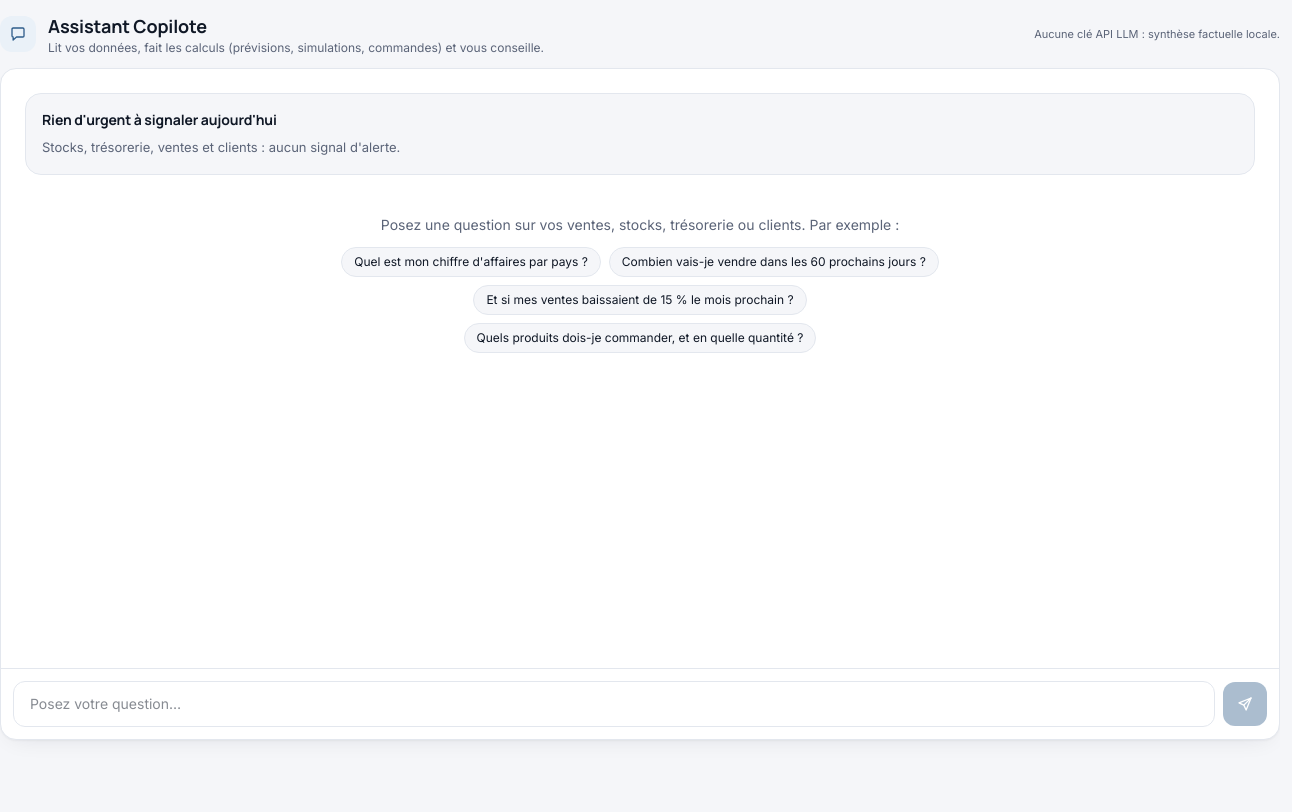
Scenario: envoie une question et affiche la réponse du copilote
Step 1. Type "Quel est mon chiffre d'affaires ?" into the field with placeholder "Posez votre question…" → {"x": 614, "y": 704}, box x1=13 y1=681 x2=1215 y2=727
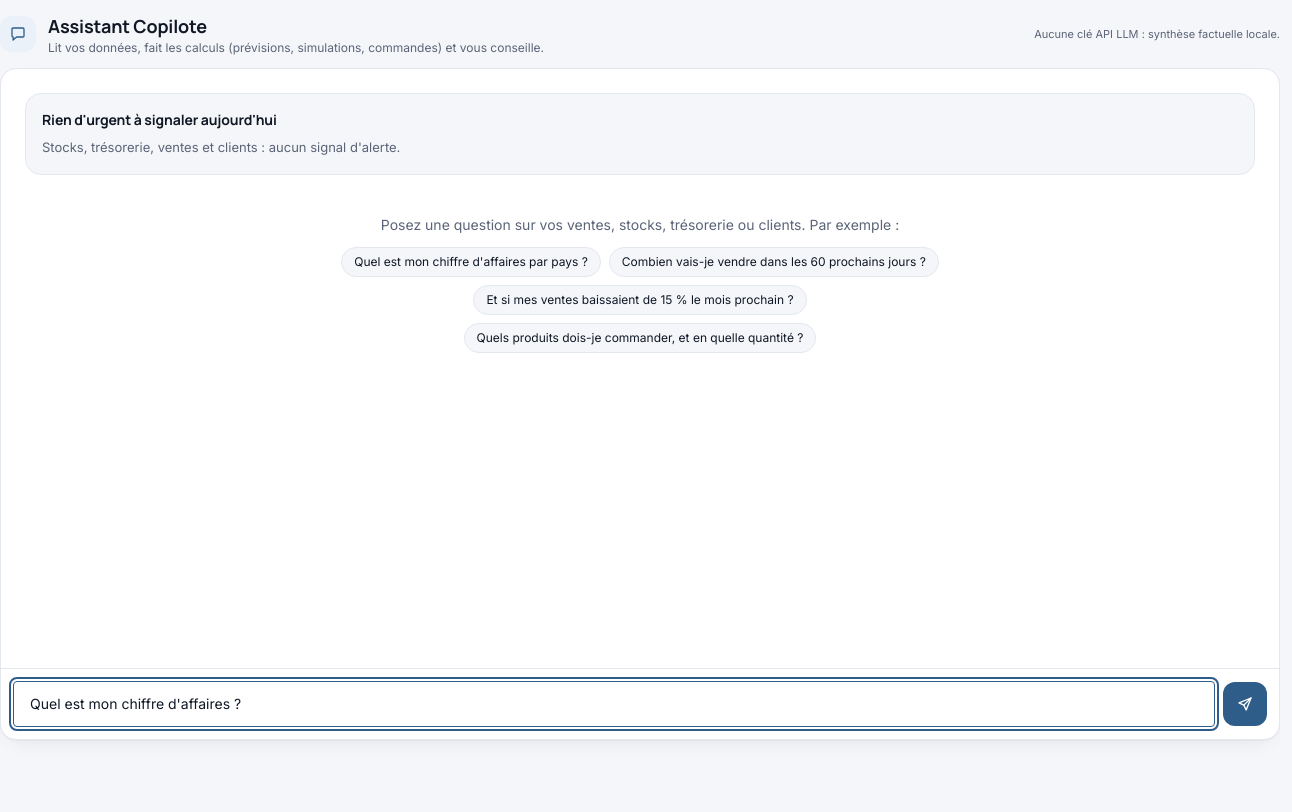
Step 2. Click the button named "envoyer" → {"x": 1245, "y": 704}, box x1=1223 y1=682 x2=1267 y2=726
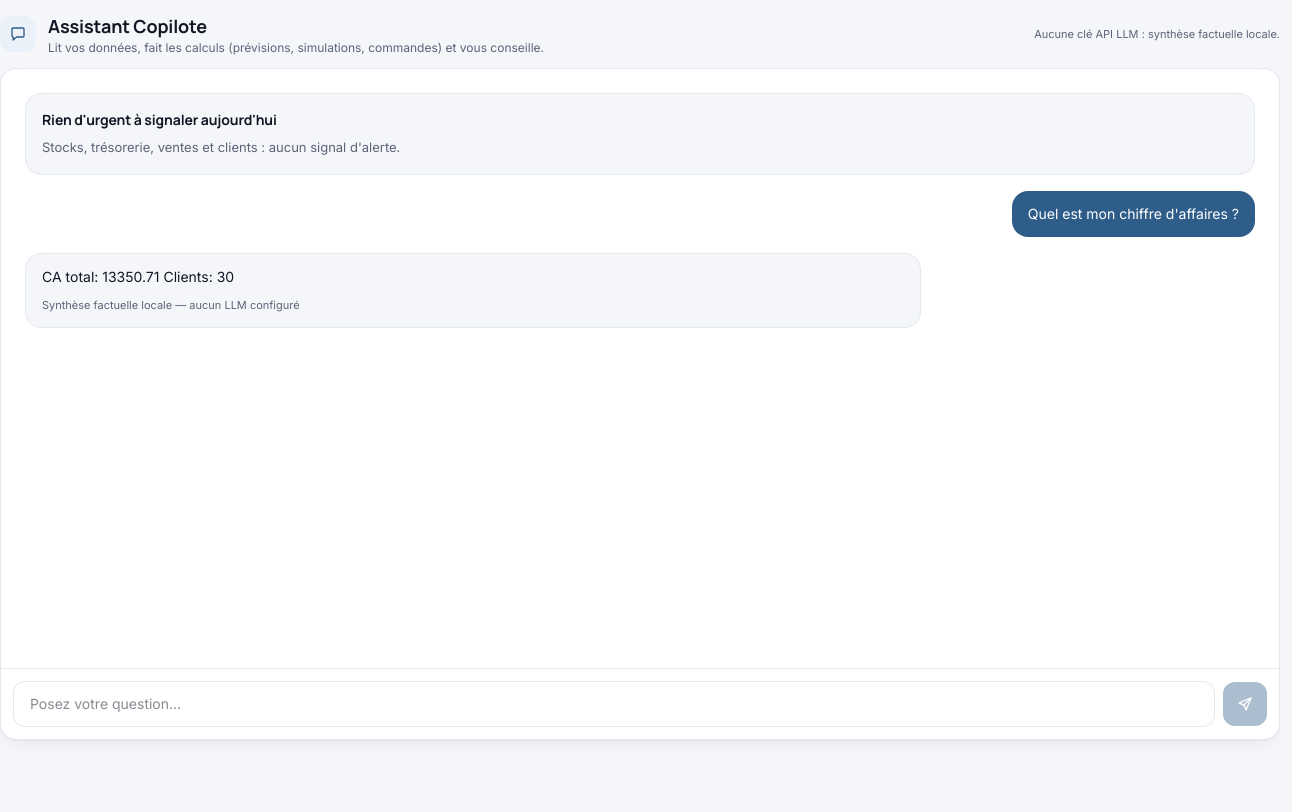
Expected: the text "Quel est mon chiffre d'affaires ?" is shown, x1=1012 y1=190 x2=1255 y2=237
Expected: the text "CA total: 13350.71 Clients: 30" is shown, x1=42 y1=268 x2=234 y2=285
Expected: the text with test id "origine-reponse" shows "aucun LLM configuré", x1=42 y1=298 x2=300 y2=312
